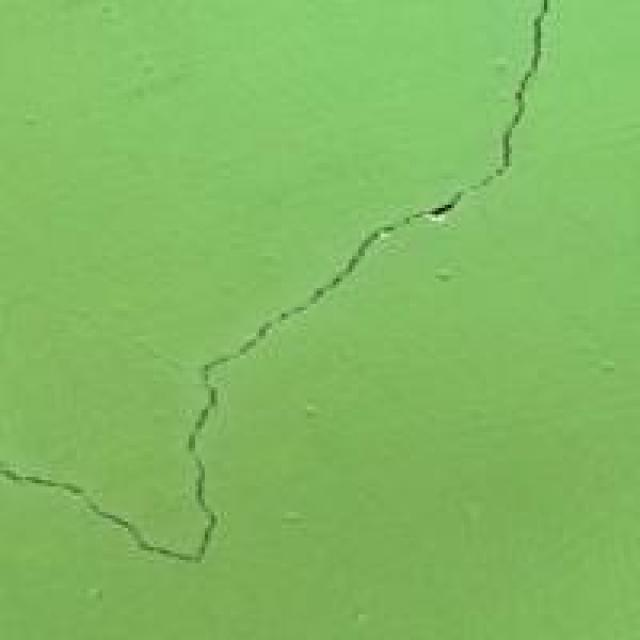crack: (3, 10, 544, 576)
